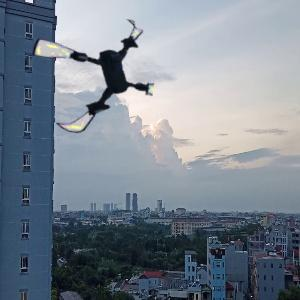drone: (30, 12, 156, 138)
